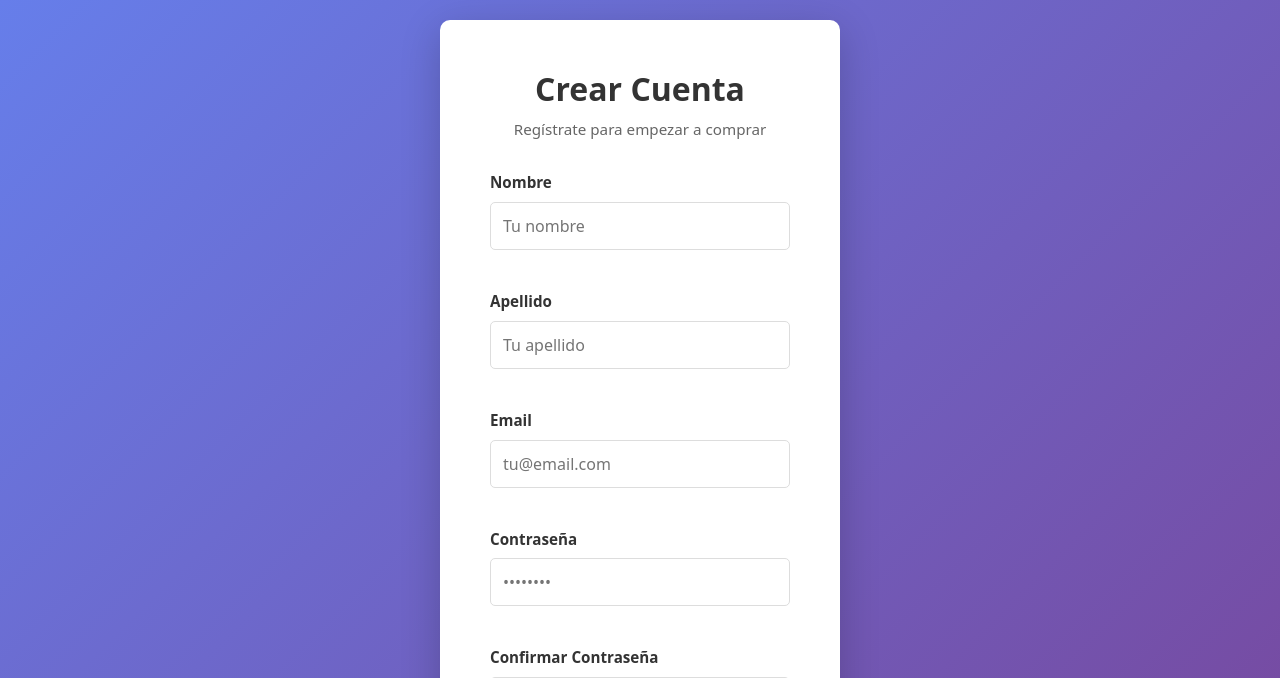
it: Register Page › Estado del botón Registrarse › el botón debe habilitarse con todos los campos válidos
This screenshot has width=1280, height=678.
In the field labelled "Nombre": (640, 226) [490, 202, 790, 250], type "Juan"
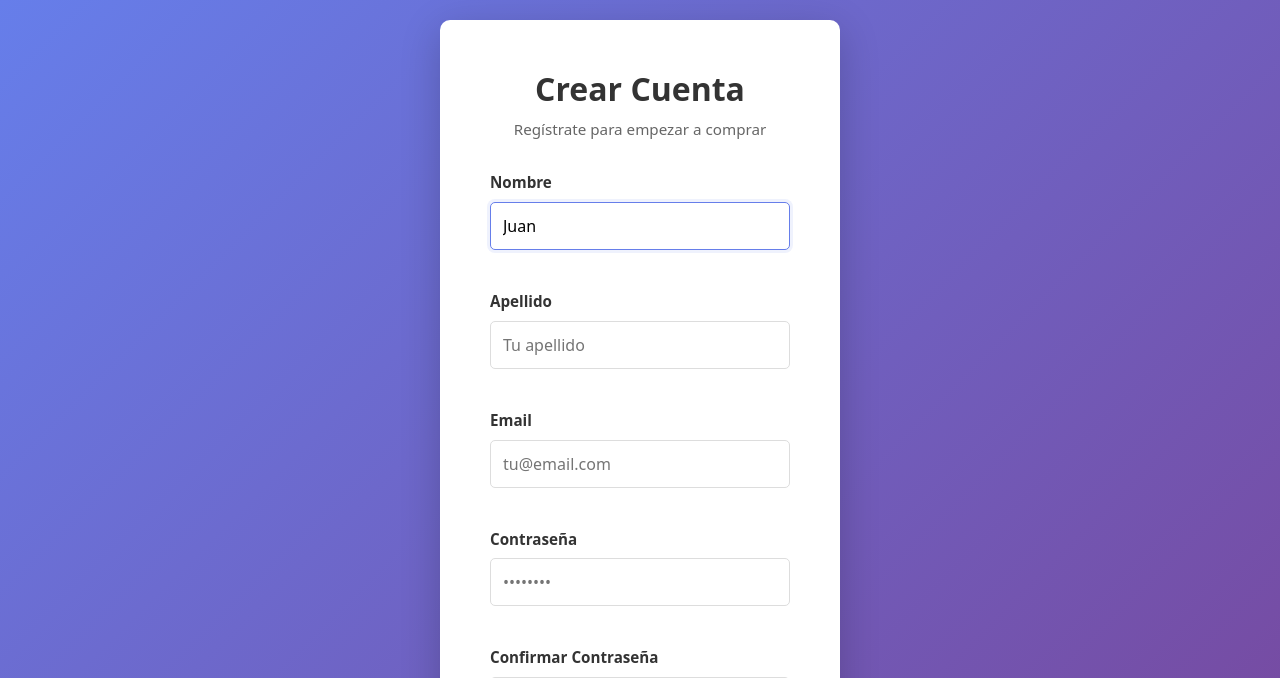
In the field labelled "Apellido": (640, 345) [490, 321, 790, 369], type "Pérez"
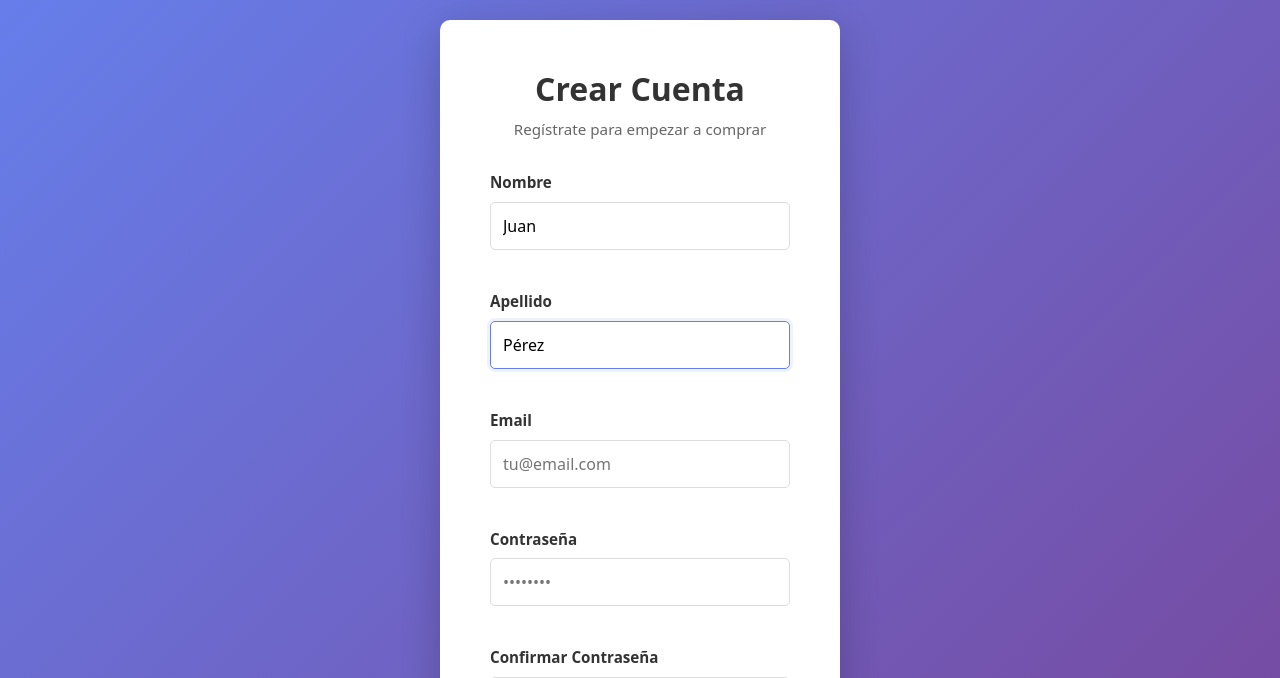
In the field labelled "Email": (640, 464) [490, 440, 790, 488], type "juan@test.com"
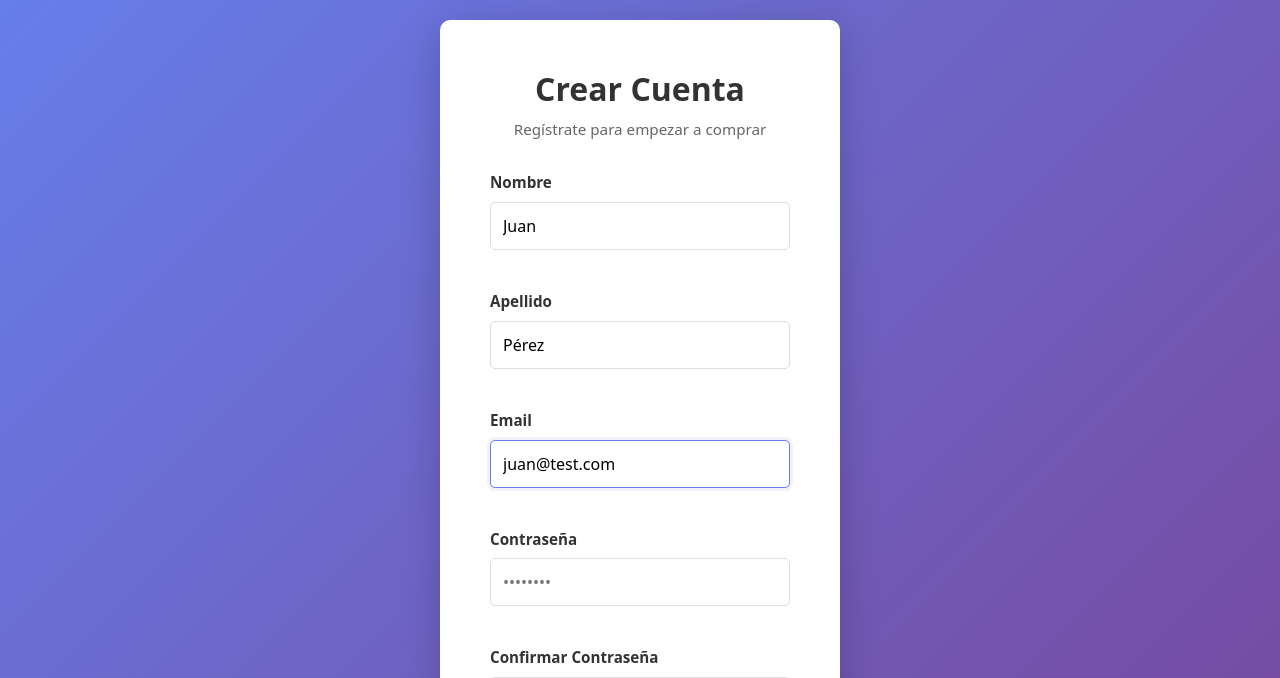
In the password field labelled "Contraseña": (640, 582) [490, 558, 790, 606], type "password123"
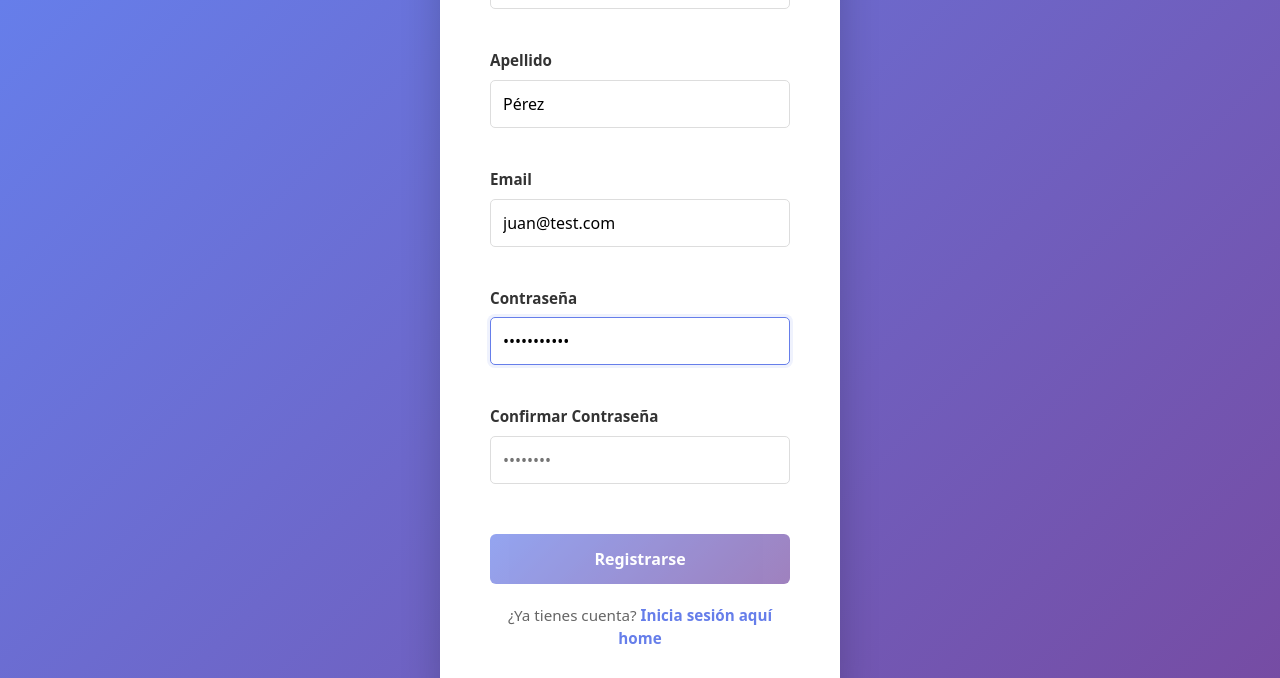
In the password field labelled "Confirmar Contraseña": (640, 460) [490, 436, 790, 484], type "password123"
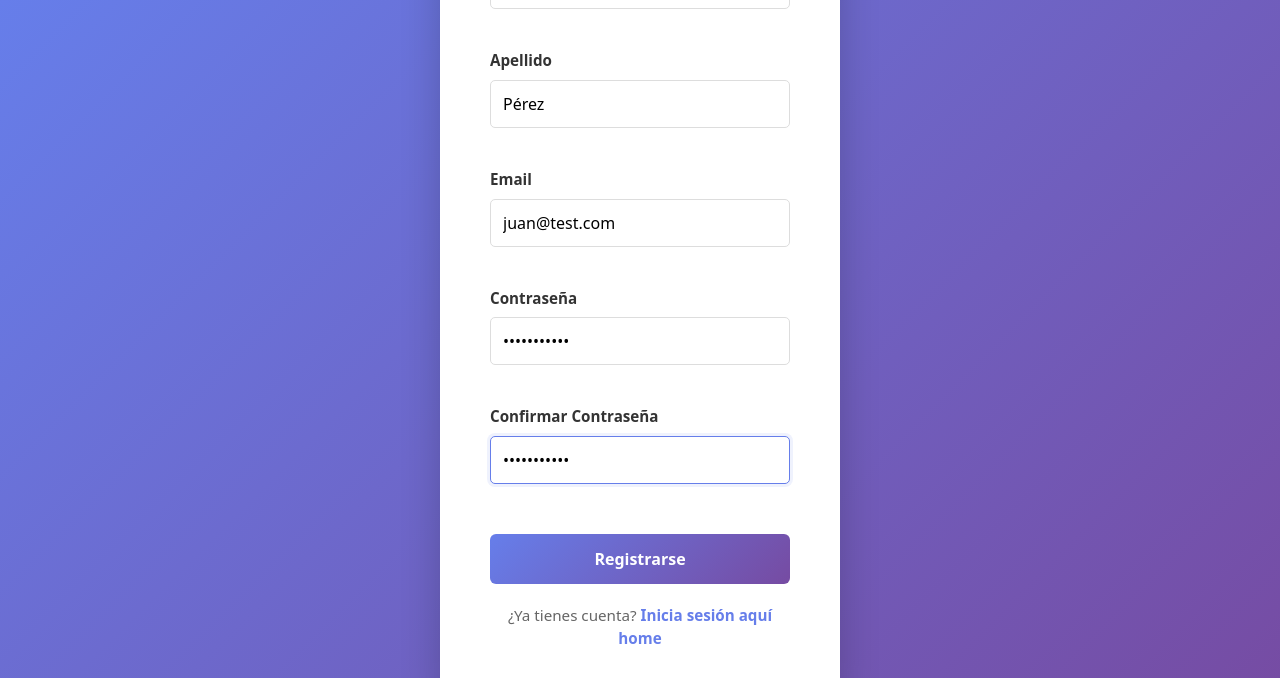
Check: the button "Registrarse" is enabled, box [490, 534, 790, 584]
